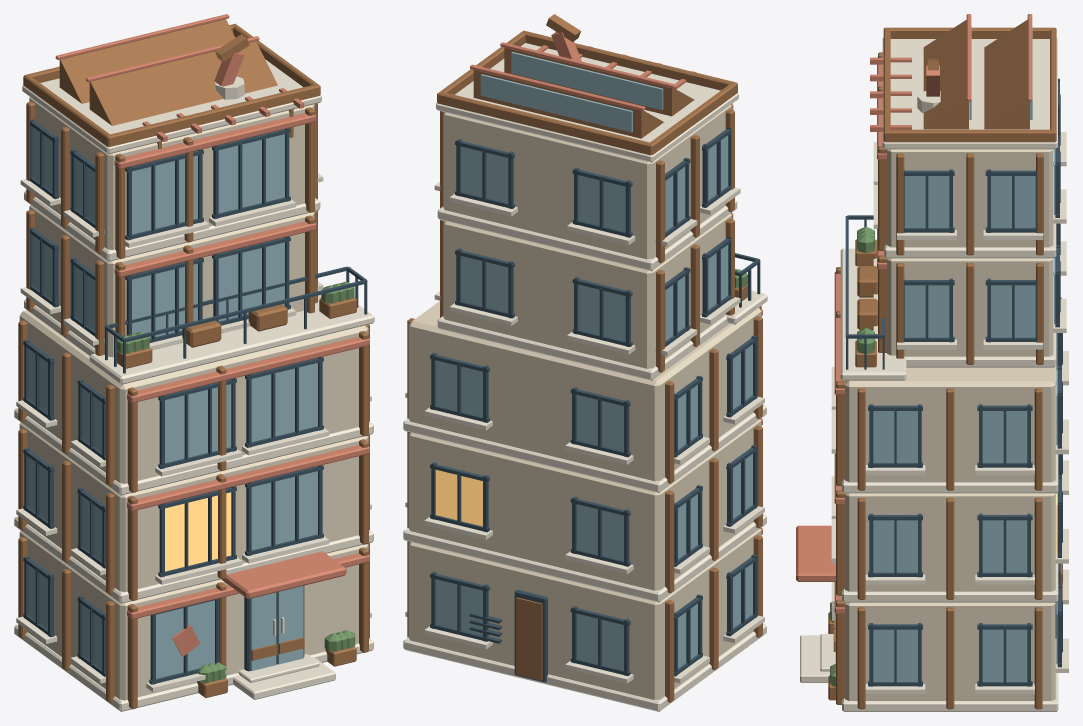
Rendered from creative-l05.glb.
3 renders of one model, left to right at view 1: azimuth 30°, elevation 25°; view 2: azimuth 150°, elevation 25°; view 3: azimuth 270°, elevation 25°, orthographic.
Visible parts, largest first — view 1: creative_L05; view 2: creative_L05; view 3: creative_L05.
Boxes of the visible parts, x1,y1,x2,y2 form: creative_L05: (14,14,374,711); creative_L05: (403,14,767,711); creative_L05: (796,14,1068,711).
Size of the model in its own units: 5.57 by 11.81 by 4.8.
